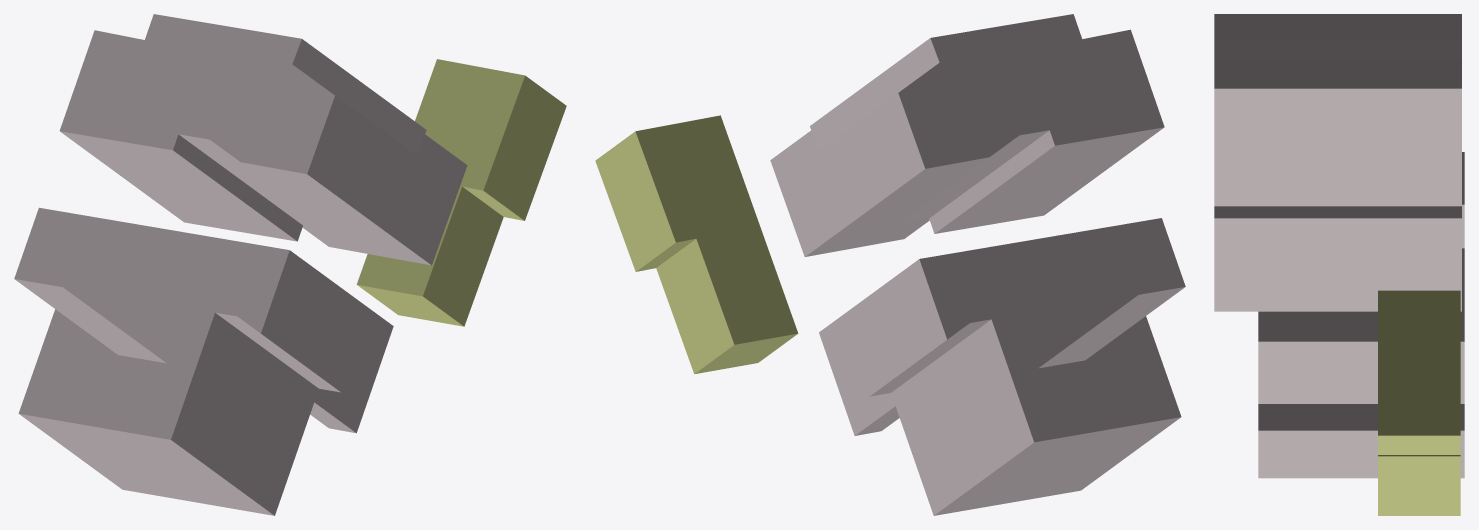
The picture shows the model from 3 angles, left to right: view 1: azimuth 30°, elevation 25°; view 2: azimuth 150°, elevation 25°; view 3: azimuth 270°, elevation 25°; orthographic projection. The views are drawn at different scales.
Visible parts, largest first — view 1: 0_0_1_3_1_1_2_0_3; view 2: 0_0_1_3_1_1_2_0_3; view 3: 0_0_1_3_1_1_2_0_3.
Boxes of the visible parts, x1,y1,x2,y2 form: 0_0_1_3_1_1_2_0_3: (14, 14, 566, 515); 0_0_1_3_1_1_2_0_3: (595, 14, 1185, 515); 0_0_1_3_1_1_2_0_3: (1214, 14, 1464, 515).
Bounding box in the file's own units: 42.41 × 34.35 × 18.2.
